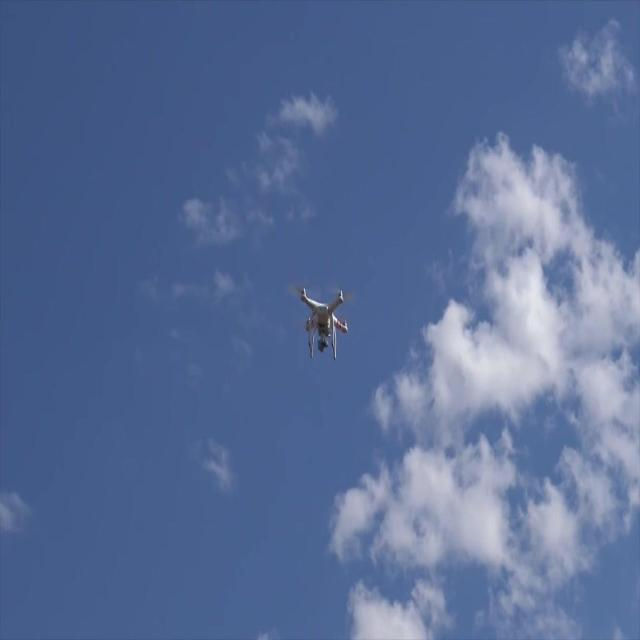drone: (298, 285, 349, 364)
